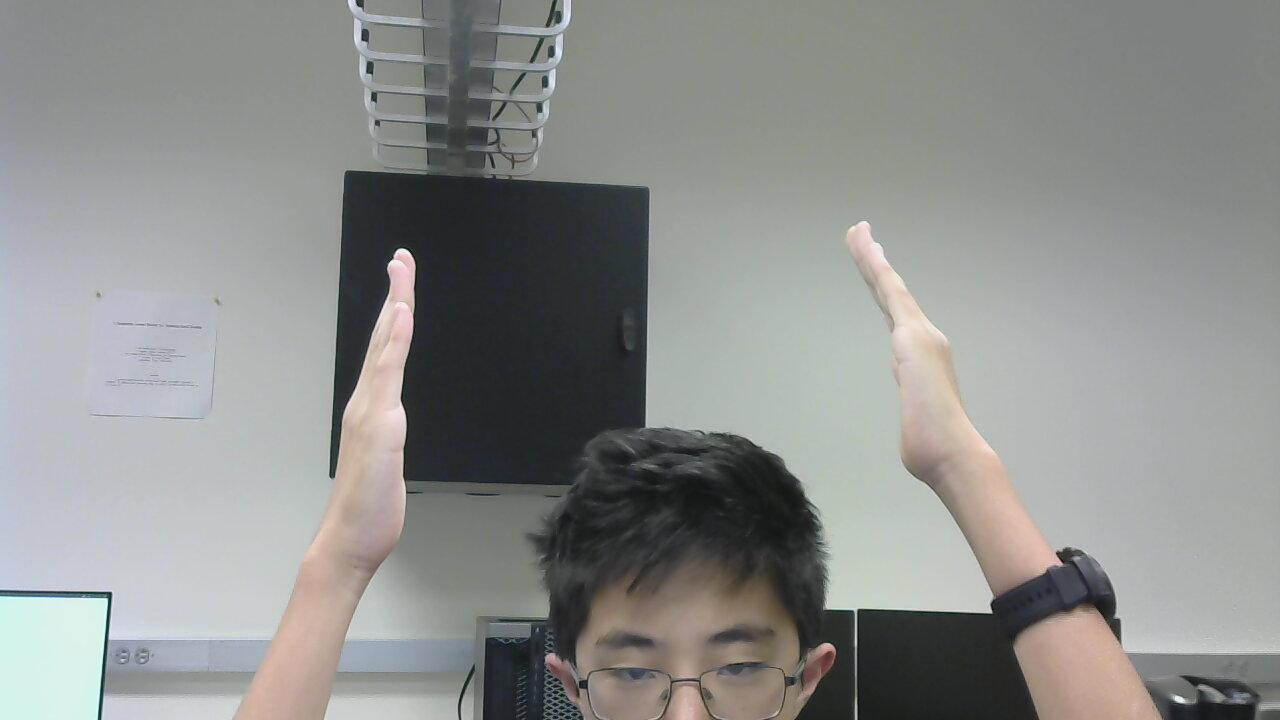hands: (838, 217, 1025, 491), (302, 233, 430, 573)
